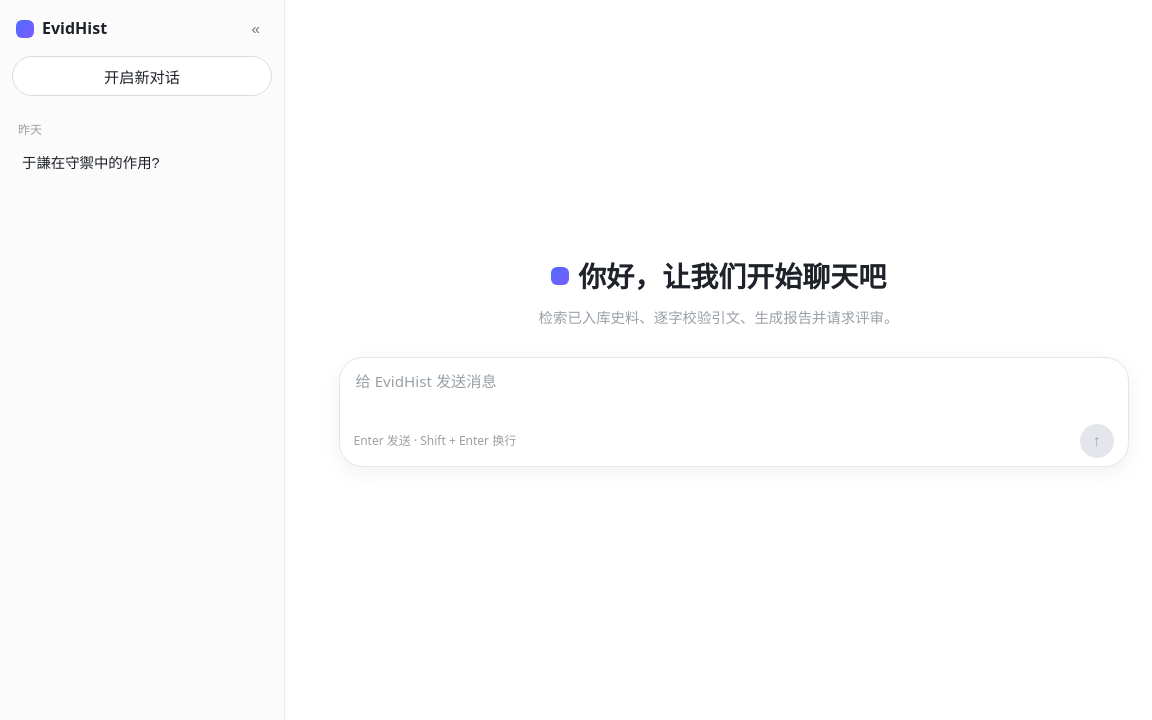
Test: chat view › streams an answer, renders tools, citations and the review verdict
This screenshot has width=1152, height=720.
Click the button "于謙在守禦中的作用?". click: (142, 161)
box: top-left (12, 143), bottom-right (272, 180)
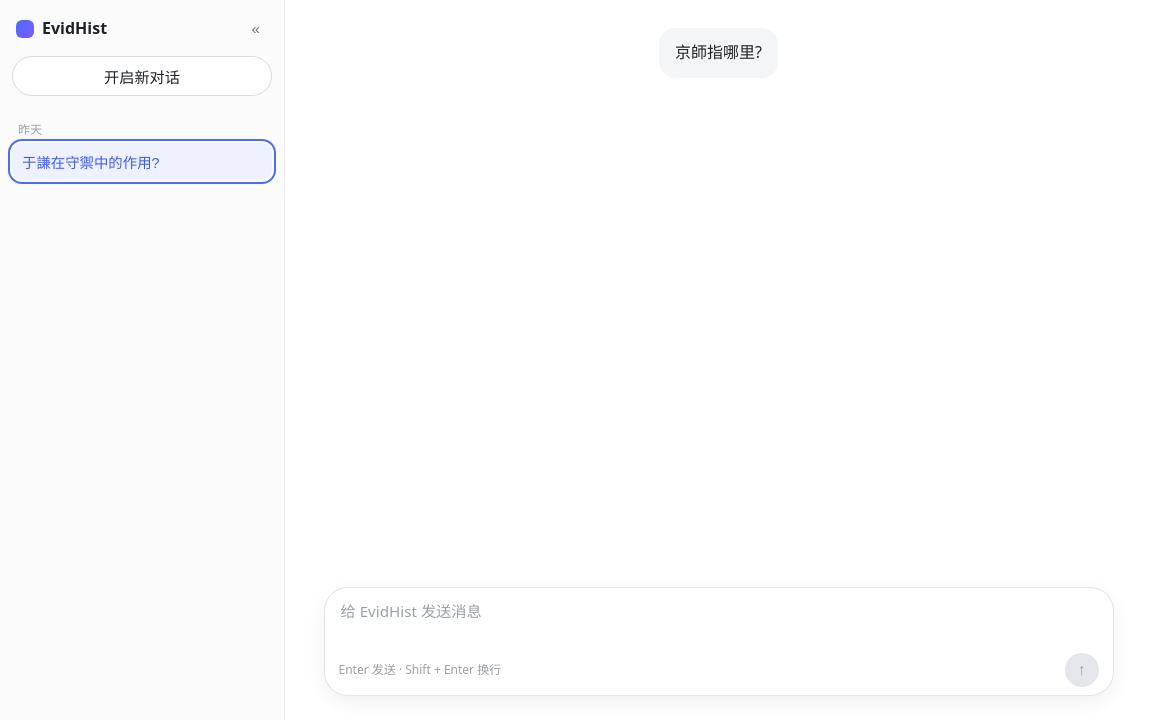
Type "京師指哪里?" into the text box named "输入消息". click: (718, 623)
box: top-left (338, 598), bottom-right (1098, 647)
Then press Enter
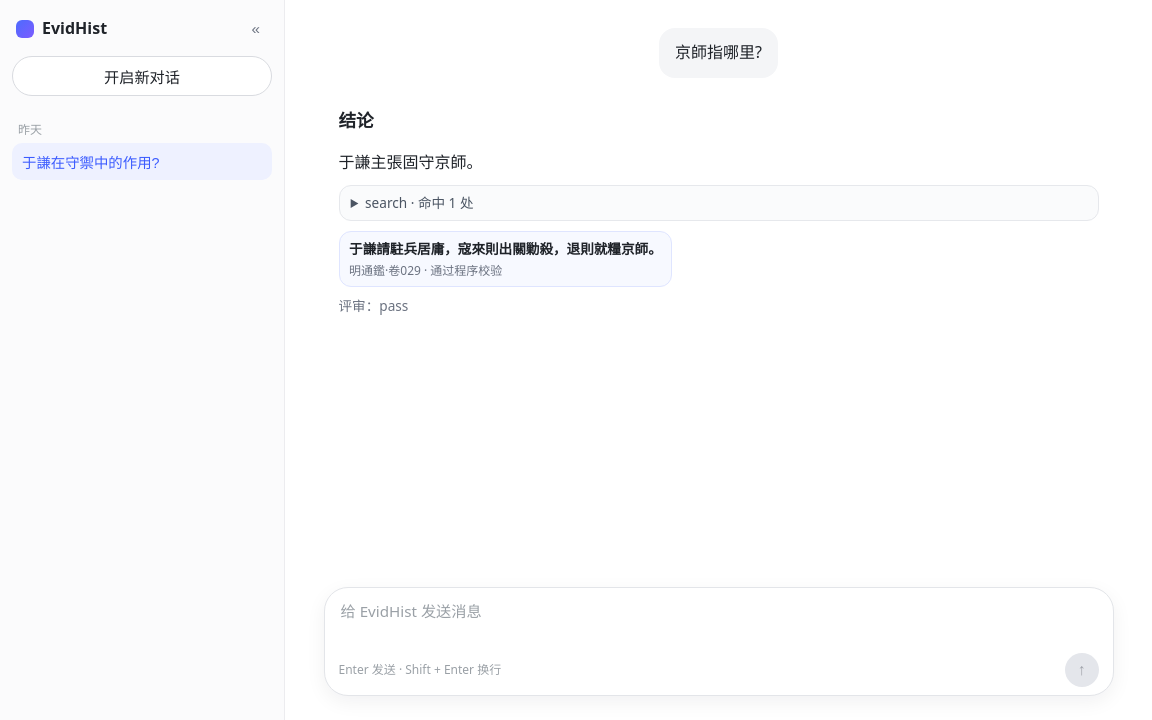
Check: the heading "结论" is shown, box top-left (338, 108), bottom-right (374, 132)
Check: the heading "search · 命中 1 处" is shown, box top-left (365, 193), bottom-right (474, 212)
Check: the text "于謙請駐兵居庸，寇來則出關勦殺，退則就糧京師。" is shown, box top-left (349, 238), bottom-right (662, 259)
